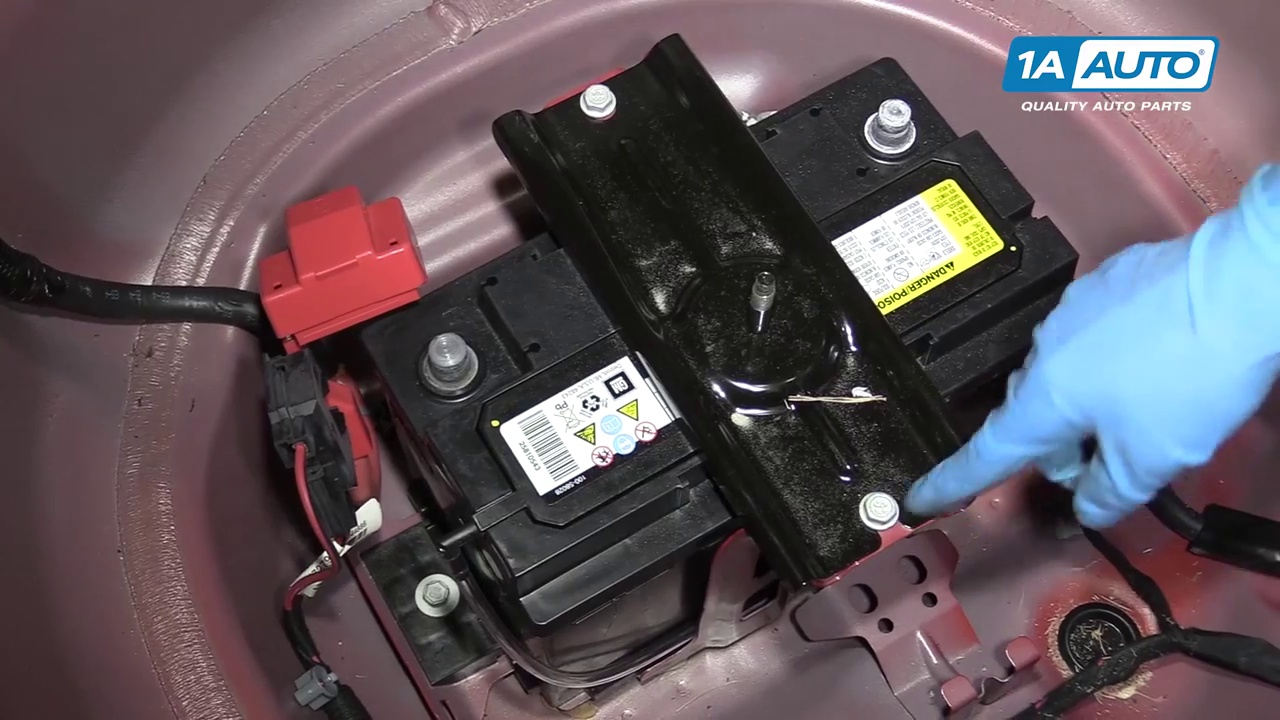battery: (377, 59, 1081, 601)
neg_disconnected: (835, 91, 955, 187)
pos_disconnected: (247, 196, 488, 402)
